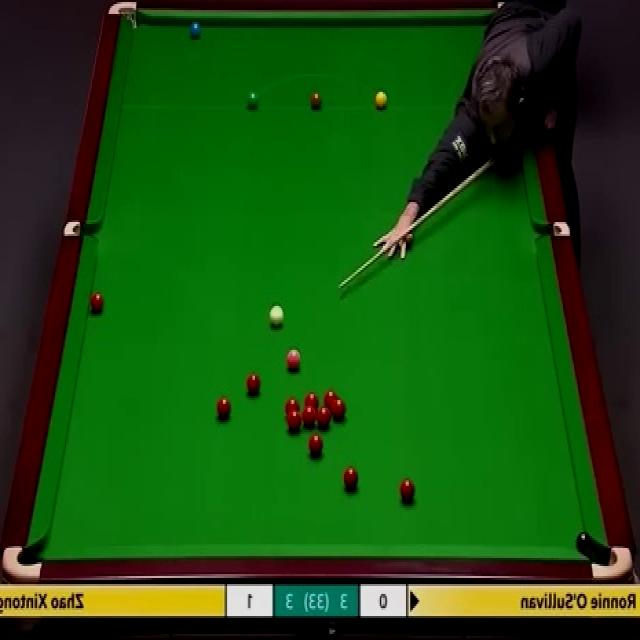pocket: (1, 543, 43, 585), (591, 542, 634, 578), (108, 0, 140, 32), (534, 221, 570, 237), (64, 220, 99, 235)
